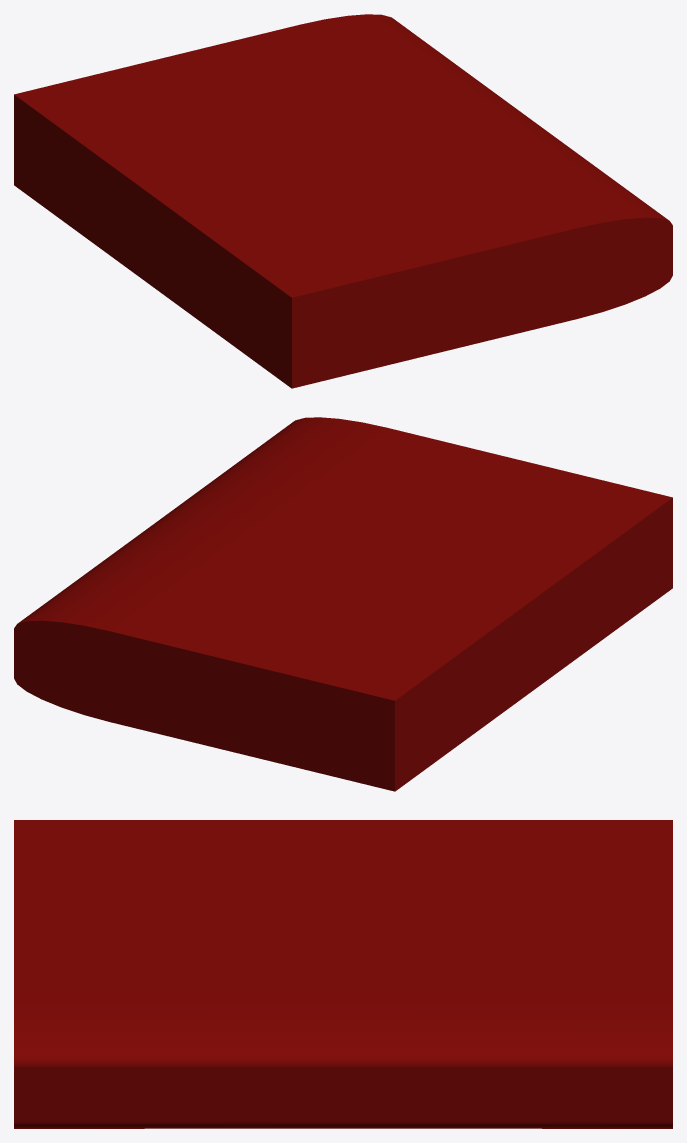
File: Sofa_Pillow.fbx
The picture shows the model from 3 angles, top to bottom: view 1: azimuth 30°, elevation 25°; view 2: azimuth 150°, elevation 25°; view 3: azimuth 270°, elevation 25°; orthographic projection. The views are drawn at different scales.
Visible parts, largest first — view 1: Cube.006; view 2: Cube.006; view 3: Cube.006.
Part boxes in pixels (x1,y1,x2,y2): Cube.006: (14, 14, 672, 388); Cube.006: (14, 417, 672, 791); Cube.006: (14, 820, 672, 1128).
Size of the model in its own units: 137 by 31.2 by 173.
